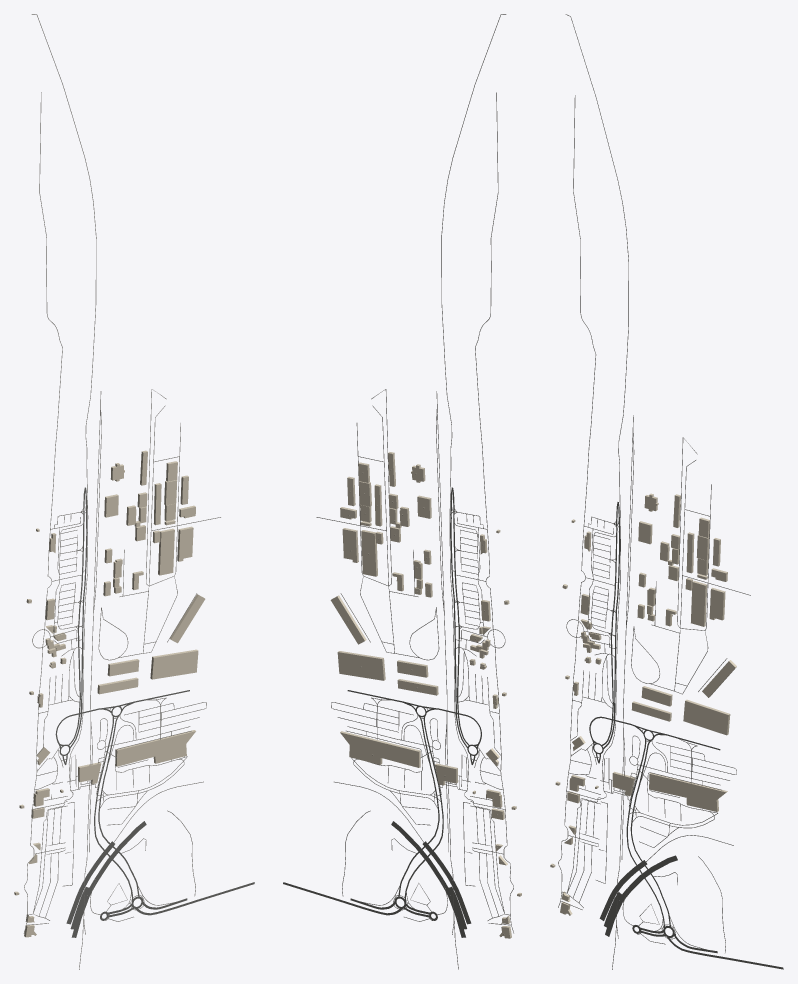
The model's file is historic-palestine-08_33_3495_3279.glb.
The picture shows the model from 3 angles, left to right: view 1: azimuth 30°, elevation 25°; view 2: azimuth 150°, elevation 25°; view 3: azimuth 330°, elevation 25°; orthographic projection. The views are drawn at different scales.
Visible parts, largest first — view 1: Building_.001, Road .164, Building_.025, Road טיילת חוף הכרמל, Building_.027, Road מסילת החוף, Building_.026; view 2: Building_.001, Building_.025, Road .164, Road טיילת חוף הכרמל, Building_.027, Road מסילת החוף, Building_.026; view 3: Building_.001, Building_.025, Road .164, Road טיילת חוף הכרמל, Building_.027, Road מסילת החוף.
Part boxes in pixels (bbox=[...]): Building_.001: bbox=[115, 730, 195, 766]; Road .164: bbox=[31, 14, 96, 912]; Building_.025: bbox=[150, 649, 198, 679]; Road טיילת חוף הכרמל: bbox=[23, 92, 62, 933]; Building_.027: bbox=[158, 528, 174, 575]; Road מסילת החוף: bbox=[79, 391, 101, 969]; Building_.026: bbox=[170, 594, 205, 643]; Building_.001: bbox=[340, 731, 420, 767]; Building_.025: bbox=[337, 651, 385, 680]; Road .164: bbox=[441, 14, 506, 912]; Road טיילת חוף הכרמל: bbox=[475, 92, 513, 933]; Building_.027: bbox=[361, 530, 377, 576]; Road מסילת החוף: bbox=[436, 391, 458, 969]; Building_.026: bbox=[330, 595, 366, 644]; Building_.001: bbox=[649, 773, 727, 811]; Building_.025: bbox=[683, 699, 730, 735]; Road .164: bbox=[565, 14, 628, 892]; Road טיילת חוף הכרמל: bbox=[558, 95, 596, 907]; Building_.027: bbox=[691, 581, 707, 626]; Road מסילת החוף: bbox=[612, 415, 633, 969].
Bounding box in the file's own units: 600 × 2324 × 8.7.
